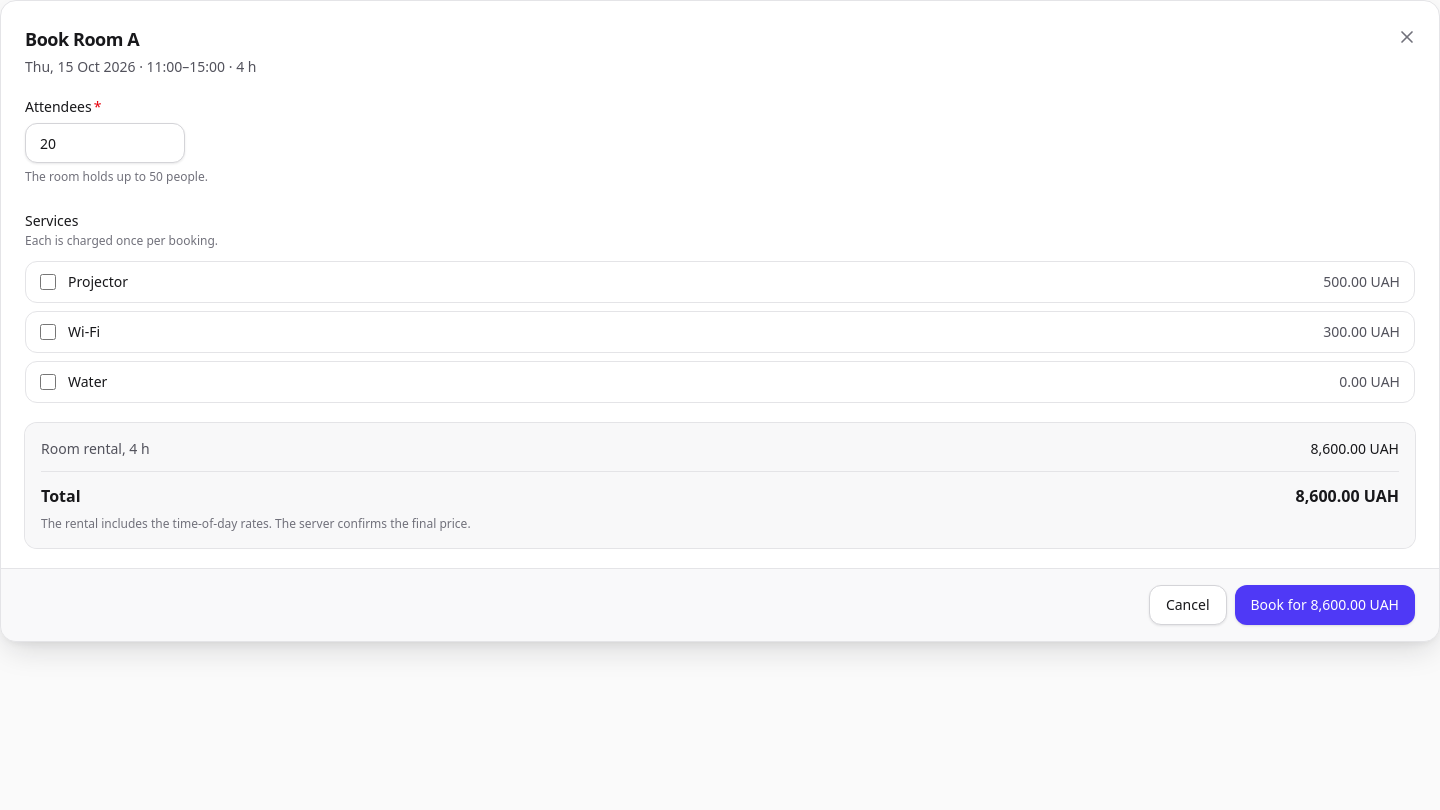
BookRoomDialogComponent › explains a slot that was just taken, and refreshes the results behind
Click the button "Book for 8,600.00 UAH".
click(1325, 605)  # box [1234,585,1415,625]
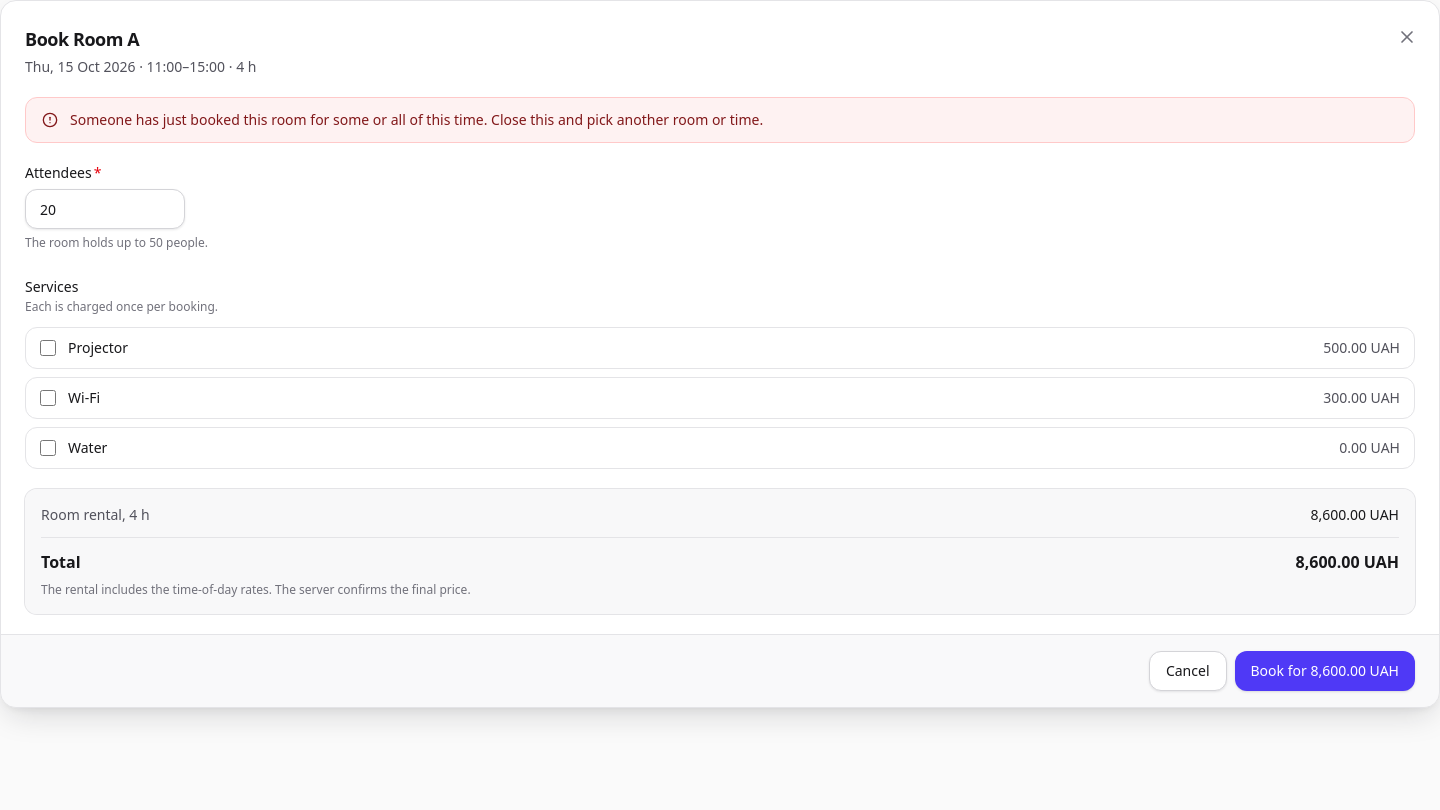
expect the message shows "Someone has just booked this room": met, box [70,110,763,129]
